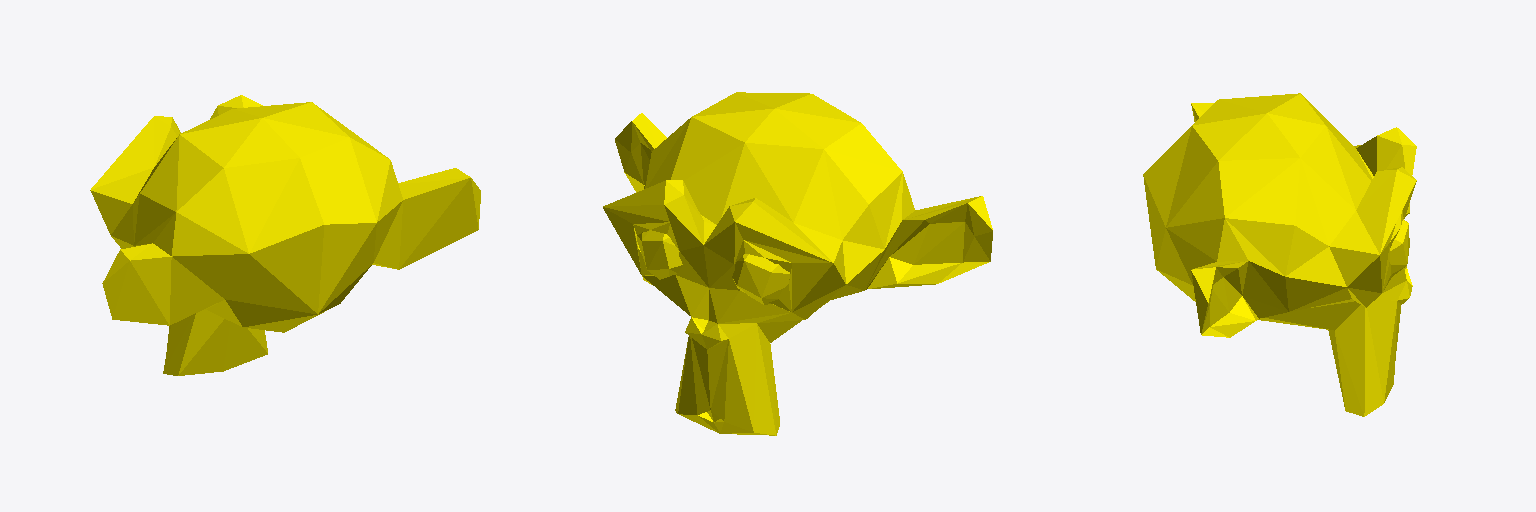
3 renders of one model, left to right at view 1: azimuth 30°, elevation 25°; view 2: azimuth 150°, elevation 25°; view 3: azimuth 270°, elevation 25°, orthographic.
Parts seen in each view (by area): view 1: モンキー; view 2: モンキー; view 3: モンキー.
Boxes of the visible parts, <box> form: モンキー: <box>90,95,480,375</box>; モンキー: <box>603,92,992,435</box>; モンキー: <box>1143,93,1416,416</box>.
Bounding box in the file's own units: 2.73 × 1.96 × 1.71.
Materials: 1 (1 with a texture image).